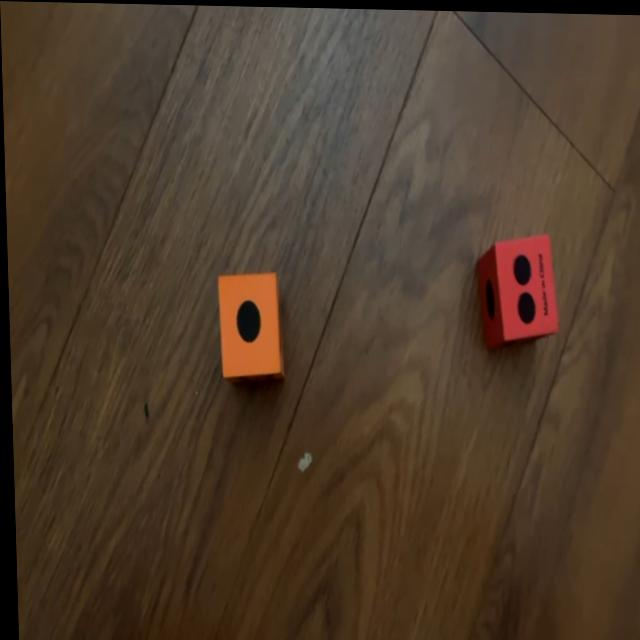red_block: (473, 232, 556, 345)
